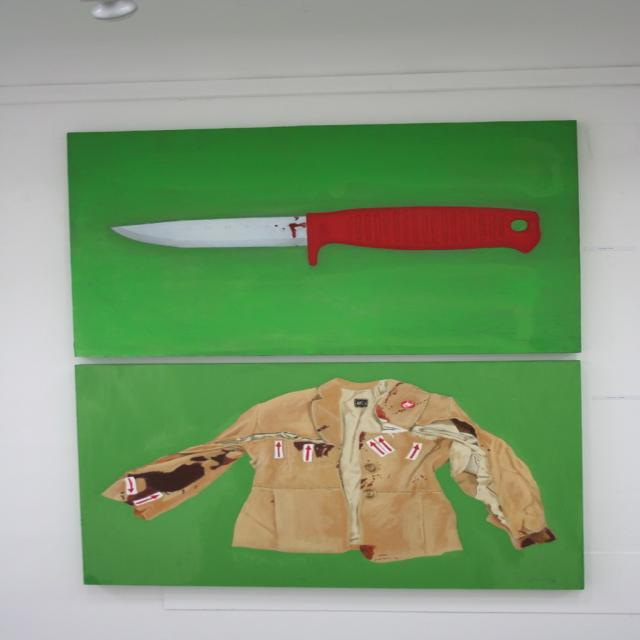Knife: (112, 206, 540, 266)
